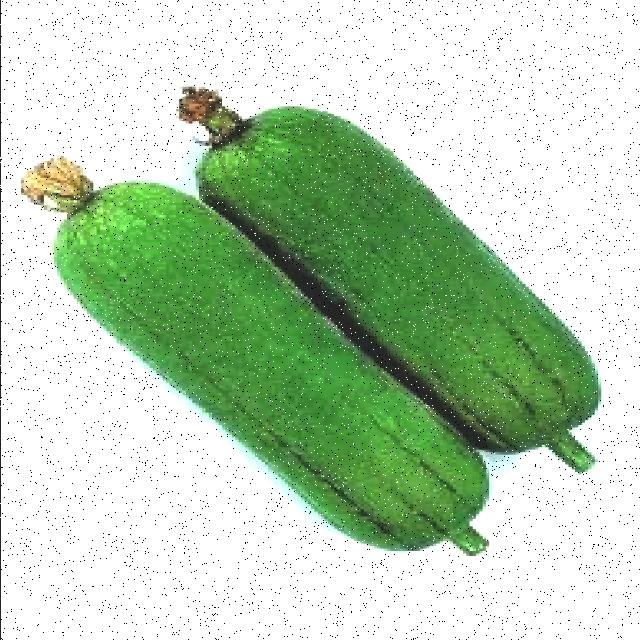Sponge Gourd: (22, 132, 512, 578), (136, 79, 620, 486)
